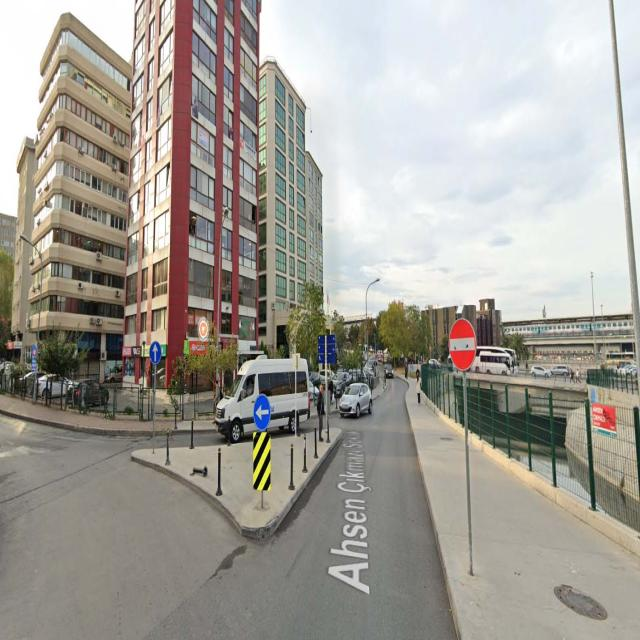girisyok: (450, 321, 475, 368)
sol: (254, 396, 270, 430)
